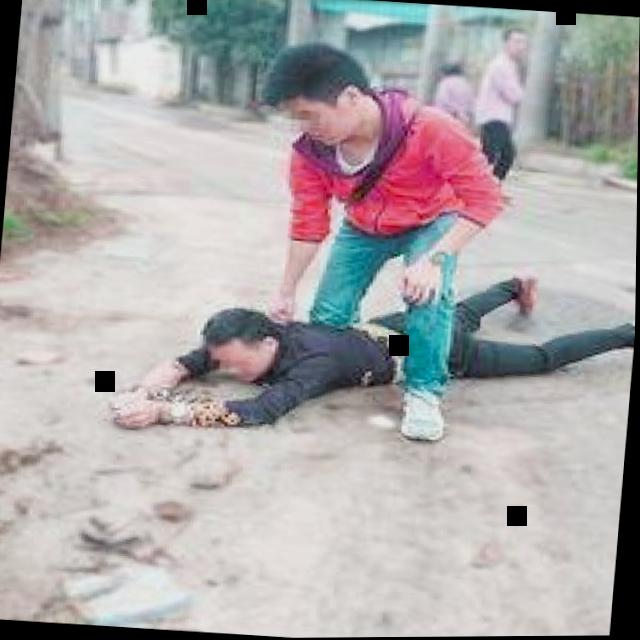Fall-Detected: (108, 233, 637, 447)
